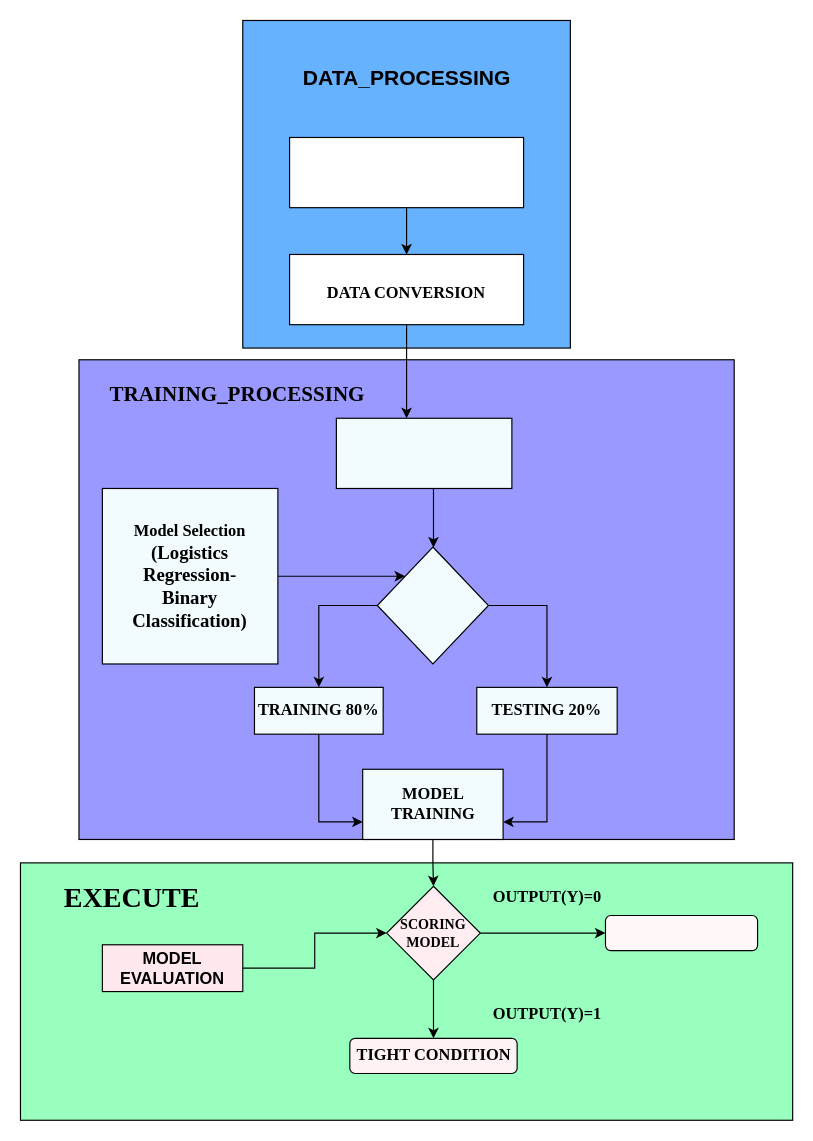
The diagram is 813 pixels wide and 1141 high, and some of its shapes have lost their labels. Here are the shapes that lost their labels. From the top down, the box of each, then its label:
(288, 136, 524, 208): DATA COLLECTION
(335, 417, 512, 488): ASSINING I/O VALUE(X,Y)
(376, 546, 488, 664): DATA SPLITING
(604, 914, 758, 951): LOSE CONDITION
